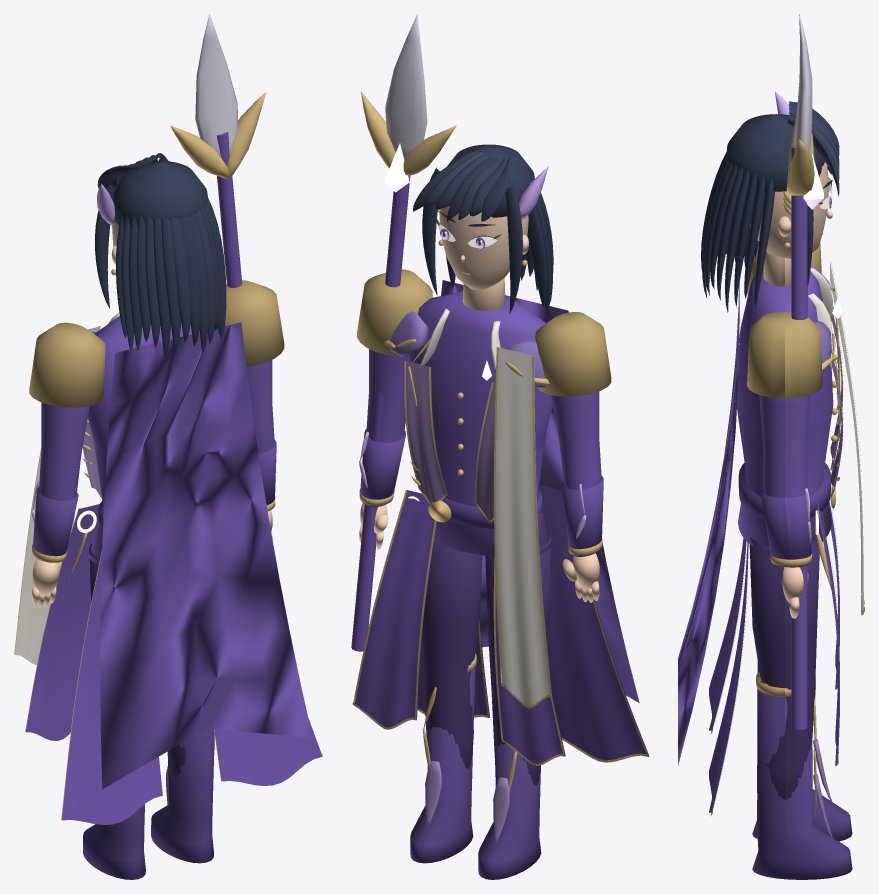
File: character_03.glb
3 views of the same model, side by side, from view 1: azimuth 30°, elevation 25°; view 2: azimuth 150°, elevation 25°; view 3: azimuth 270°, elevation 25° (orthographic). The views are drawn at different scales.
Visible parts, largest first — view 1: _MeshInstance3D_1065, _MeshInstance3D_1102, _MeshInstance3D_1048, _MeshInstance3D_1046, _MeshInstance3D_1077, _MeshInstance3D_1072, _MeshInstance3D_1103, _MeshInstance3D_1052, _MeshInstance3D_1104, _MeshInstance3D_1080, _MeshInstance3D_1070, _MeshInstance3D_1084 (+9 smaller); view 2: _MeshInstance3D_1042, _MeshInstance3D_1063, _MeshInstance3D_1048, _MeshInstance3D_1050, _MeshInstance3D_1076, _MeshInstance3D_1080, _MeshInstance3D_1102, _MeshInstance3D_1077, _MeshInstance3D_1072, _MeshInstance3D_1067, _MeshInstance3D_1065, _MeshInstance3D_1089 (+28 smaller); view 3: _MeshInstance3D_1077, _MeshInstance3D_1080, _MeshInstance3D_1076, _MeshInstance3D_1042, _MeshInstance3D_1102, _MeshInstance3D_1065, _MeshInstance3D_1082, _MeshInstance3D_1081, _MeshInstance3D_1103, _MeshInstance3D_1104, _MeshInstance3D_1089, _MeshInstance3D_1052 (+17 smaller).
Boxes of the visible parts, <box> form: _MeshInstance3D_1065: <box>100,322,312,789</box>; _MeshInstance3D_1102: <box>95,153,226,349</box>; _MeshInstance3D_1048: <box>61,553,162,824</box>; _MeshInstance3D_1046: <box>25,504,99,740</box>; _MeshInstance3D_1077: <box>151,728,214,863</box>; _MeshInstance3D_1072: <box>29,322,105,407</box>; _MeshInstance3D_1103: <box>116,202,224,353</box>; _MeshInstance3D_1052: <box>214,718,322,785</box>; _MeshInstance3D_1104: <box>128,198,224,359</box>; _MeshInstance3D_1080: <box>217,131,274,453</box>; _MeshInstance3D_1070: <box>37,402,89,562</box>; _MeshInstance3D_1084: <box>195,14,237,157</box>; _MeshInstance3D_1042: <box>409,291,552,556</box>; _MeshInstance3D_1063: <box>495,347,552,705</box>; _MeshInstance3D_1048: <box>538,485,649,760</box>; _MeshInstance3D_1050: <box>355,490,436,727</box>; _MeshInstance3D_1076: <box>421,542,482,768</box>; _MeshInstance3D_1080: <box>351,176,410,651</box>; _MeshInstance3D_1102: <box>413,144,550,314</box>; _MeshInstance3D_1077: <box>410,655,475,863</box>; _MeshInstance3D_1072: <box>535,312,611,396</box>; _MeshInstance3D_1067: <box>478,743,541,879</box>; _MeshInstance3D_1065: <box>441,280,639,702</box>; _MeshInstance3D_1089: <box>439,205,528,290</box>; _MeshInstance3D_1077: <box>752,675,852,879</box>; _MeshInstance3D_1080: <box>759,144,810,729</box>; _MeshInstance3D_1076: <box>749,537,819,799</box>; _MeshInstance3D_1042: <box>737,267,833,553</box>; _MeshInstance3D_1102: <box>705,101,839,312</box>; _MeshInstance3D_1065: <box>678,283,739,765</box>; _MeshInstance3D_1082: <box>747,311,822,398</box>; _MeshInstance3D_1081: <box>760,489,811,559</box>; _MeshInstance3D_1103: <box>702,159,765,300</box>; _MeshInstance3D_1104: <box>701,154,756,307</box>; _MeshInstance3D_1089: <box>750,162,832,258</box>; _MeshInstance3D_1052: <box>709,495,749,815</box>.
Size of the model in its own units: 0.98 by 2.96 by 0.5773.
